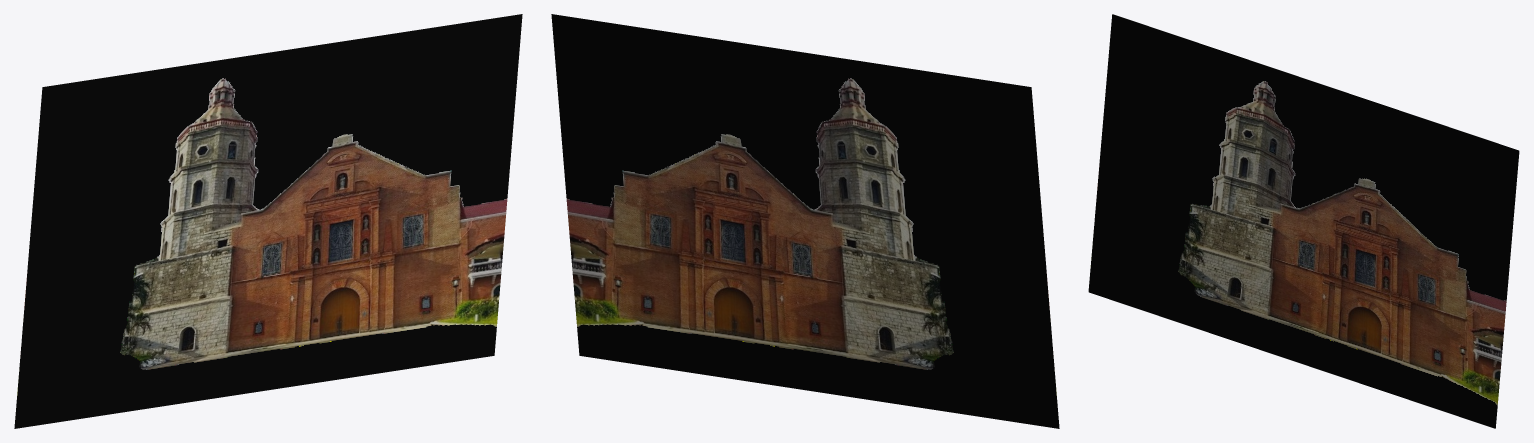
File: LubaoChurch.glb
3 views of the same model, side by side, from view 1: azimuth 30°, elevation 25°; view 2: azimuth 150°, elevation 25°; view 3: azimuth 330°, elevation 25° (orthographic). The views are drawn at different scales.
Parts seen in each view (by area): view 1: Plane; view 2: Plane; view 3: Plane.
Part boxes in pixels (box(x1,y1,x2,y2)): Plane: box(14, 14, 522, 428); Plane: box(551, 14, 1059, 428); Plane: box(1088, 14, 1519, 428).
Bounding box in the file's own units: 2.53 × 1.8 × 1.95e-08.
1 material, 1 textured.
